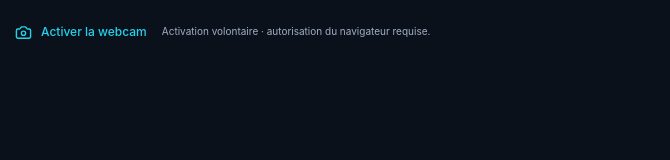
Test: webcam requests permission only after explicit activation and exposes a denial
The width and height of the screenshot is (670, 160).
Click the button "Activer la webcam" at [81, 32], box [12,12,150,52]
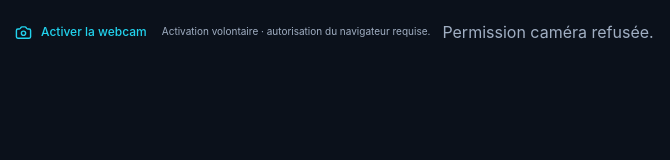
Result: the message reads "Permission caméra refusée." at [442,22,654,42]
